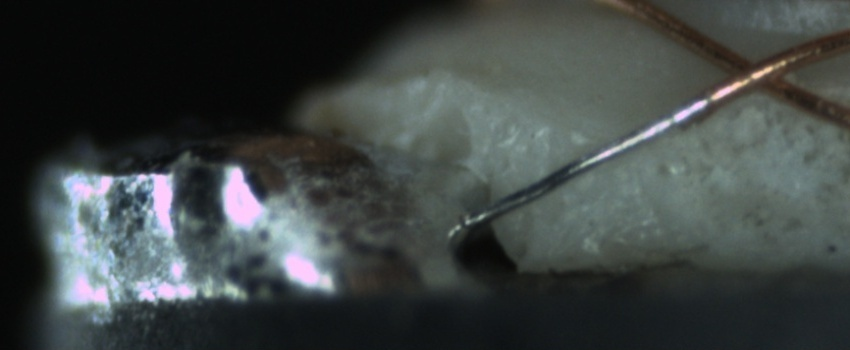CL: (705, 39, 811, 103)
TS: (457, 92, 709, 239)
TTCW: (461, 61, 748, 236)
